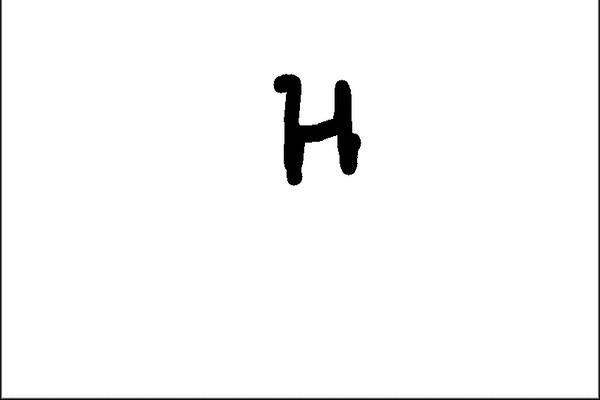H: (266, 64, 371, 190)
